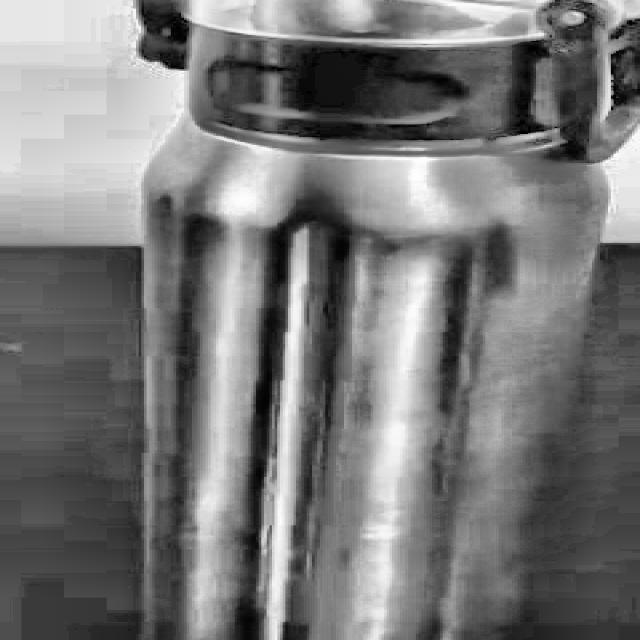bottle: (130, 0, 640, 640)
